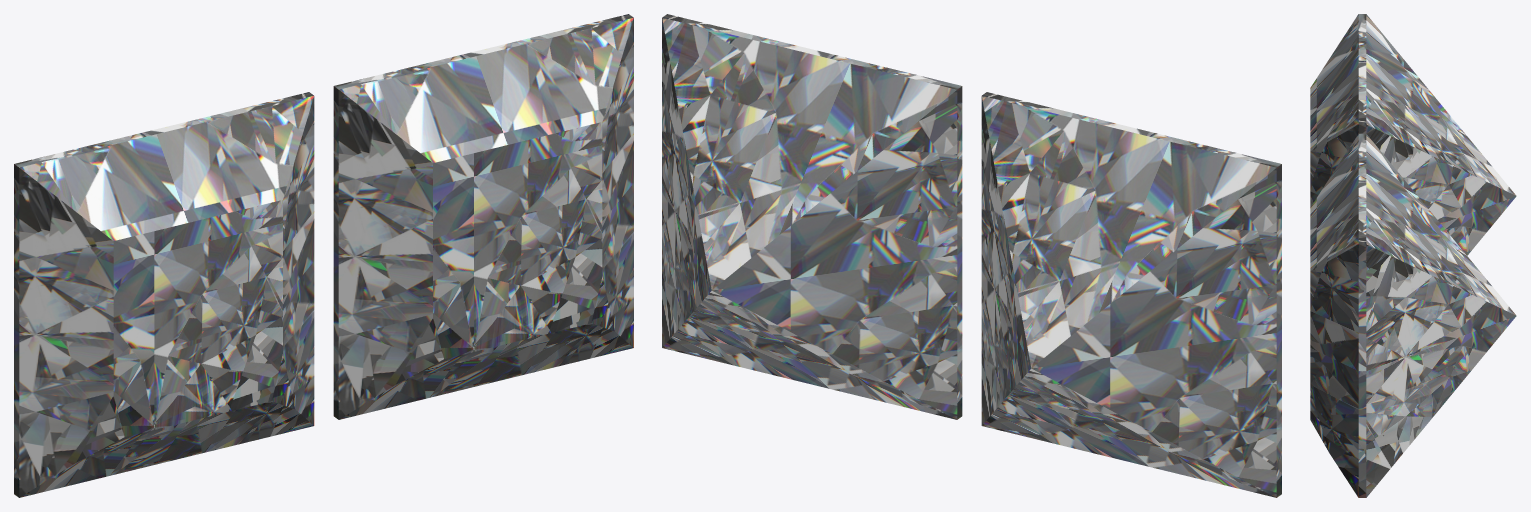
3 views of the same model, side by side, from view 1: azimuth 30°, elevation 25°; view 2: azimuth 150°, elevation 25°; view 3: azimuth 270°, elevation 25° (orthographic). The views are drawn at different scales.
Visible parts, largest first — view 1: Square_Diamond, Square_Diamond.001; view 2: Square_Diamond, Square_Diamond.001; view 3: Square_Diamond.001, Square_Diamond.
Part boxes in pixels (left/top/right/bottom): Square_Diamond: left=14, top=92, right=314, bottom=497; Square_Diamond.001: left=333, top=14, right=633, bottom=419; Square_Diamond: left=981, top=92, right=1281, bottom=497; Square_Diamond.001: left=662, top=14, right=962, bottom=419; Square_Diamond.001: left=1310, top=133, right=1516, bottom=497; Square_Diamond: left=1310, top=14, right=1516, bottom=255.
Bounding box in the file's own units: 0.0122 × 0.00628 × 0.00463.
Materials: 2 (2 with a texture image).
